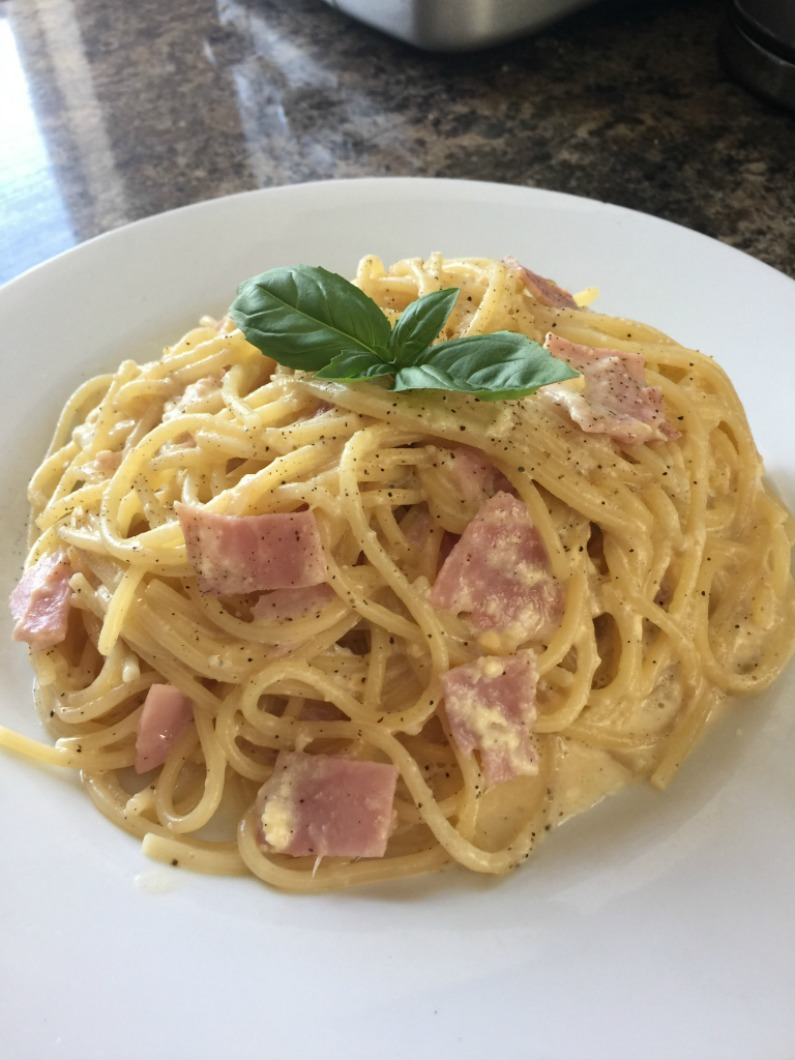plain spaghetti: (52, 262, 767, 860)
